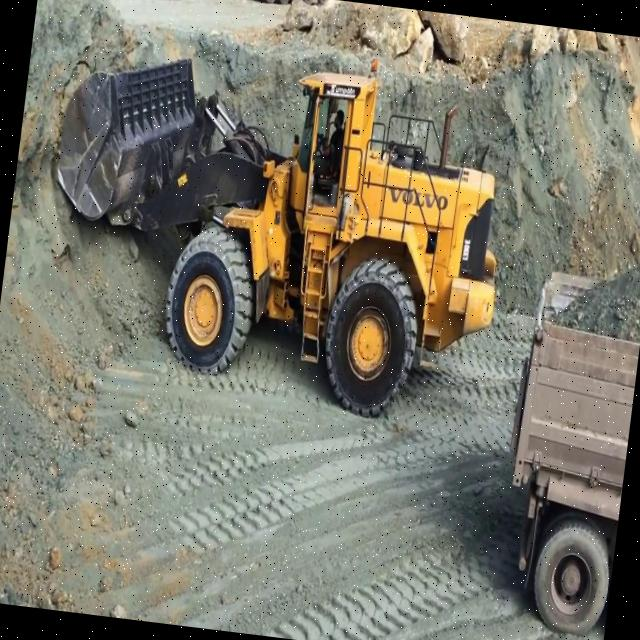Dump Truck: (490, 215, 640, 640)
Loader: (32, 35, 521, 432)
